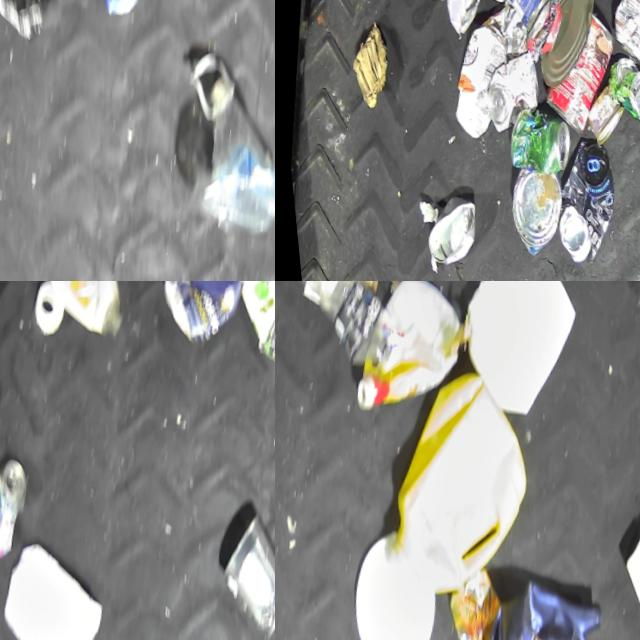can: (528, 0, 622, 135), (538, 132, 621, 266), (196, 500, 275, 640), (142, 281, 256, 354), (473, 40, 544, 137), (525, 0, 601, 89), (493, 163, 563, 258), (500, 102, 572, 176), (412, 190, 476, 272), (221, 281, 275, 364), (0, 449, 31, 563), (473, 0, 574, 34), (596, 49, 640, 126), (576, 78, 626, 144), (599, 0, 640, 62), (434, 0, 490, 37)
non_white_jug: (365, 352, 547, 608), (444, 564, 627, 640)
plastic_bottle: (275, 281, 406, 371)
